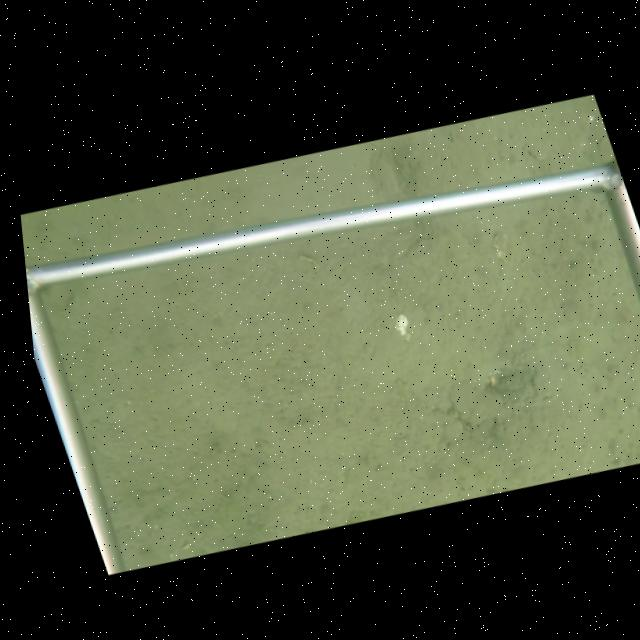Oyster-Indeterminate: (447, 377, 509, 433)
